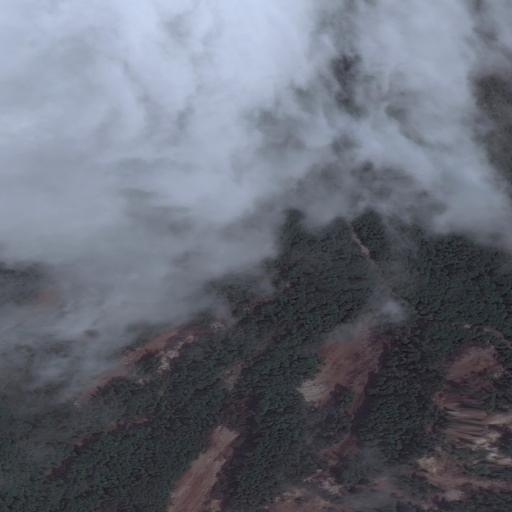landslide: (423, 343, 512, 510), (295, 325, 380, 406), (171, 422, 242, 512)
